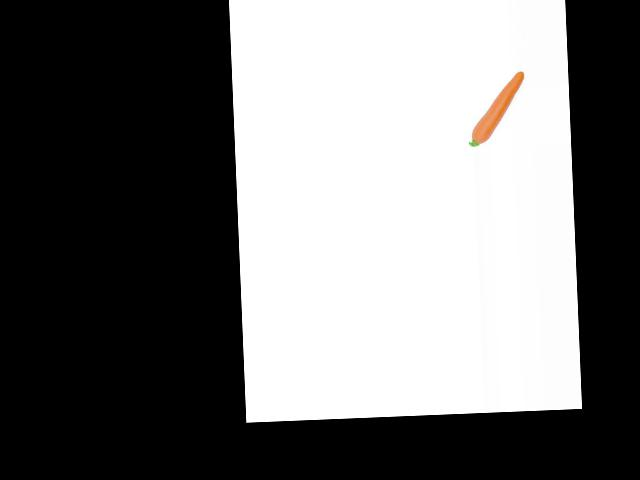carrot: (466, 70, 531, 144)
